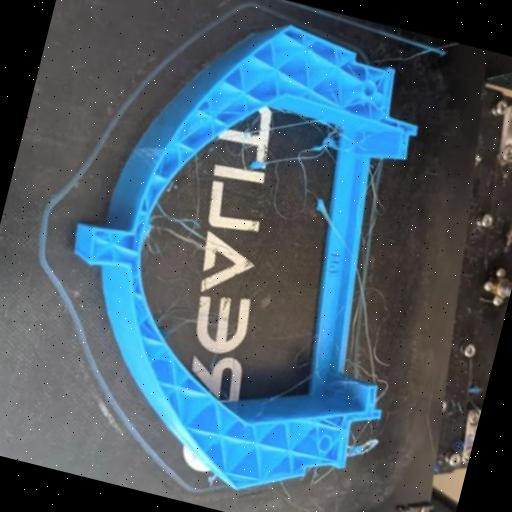stringing: (313, 190, 386, 395), (243, 142, 322, 177), (150, 204, 206, 246), (362, 159, 390, 215), (314, 122, 350, 162)
